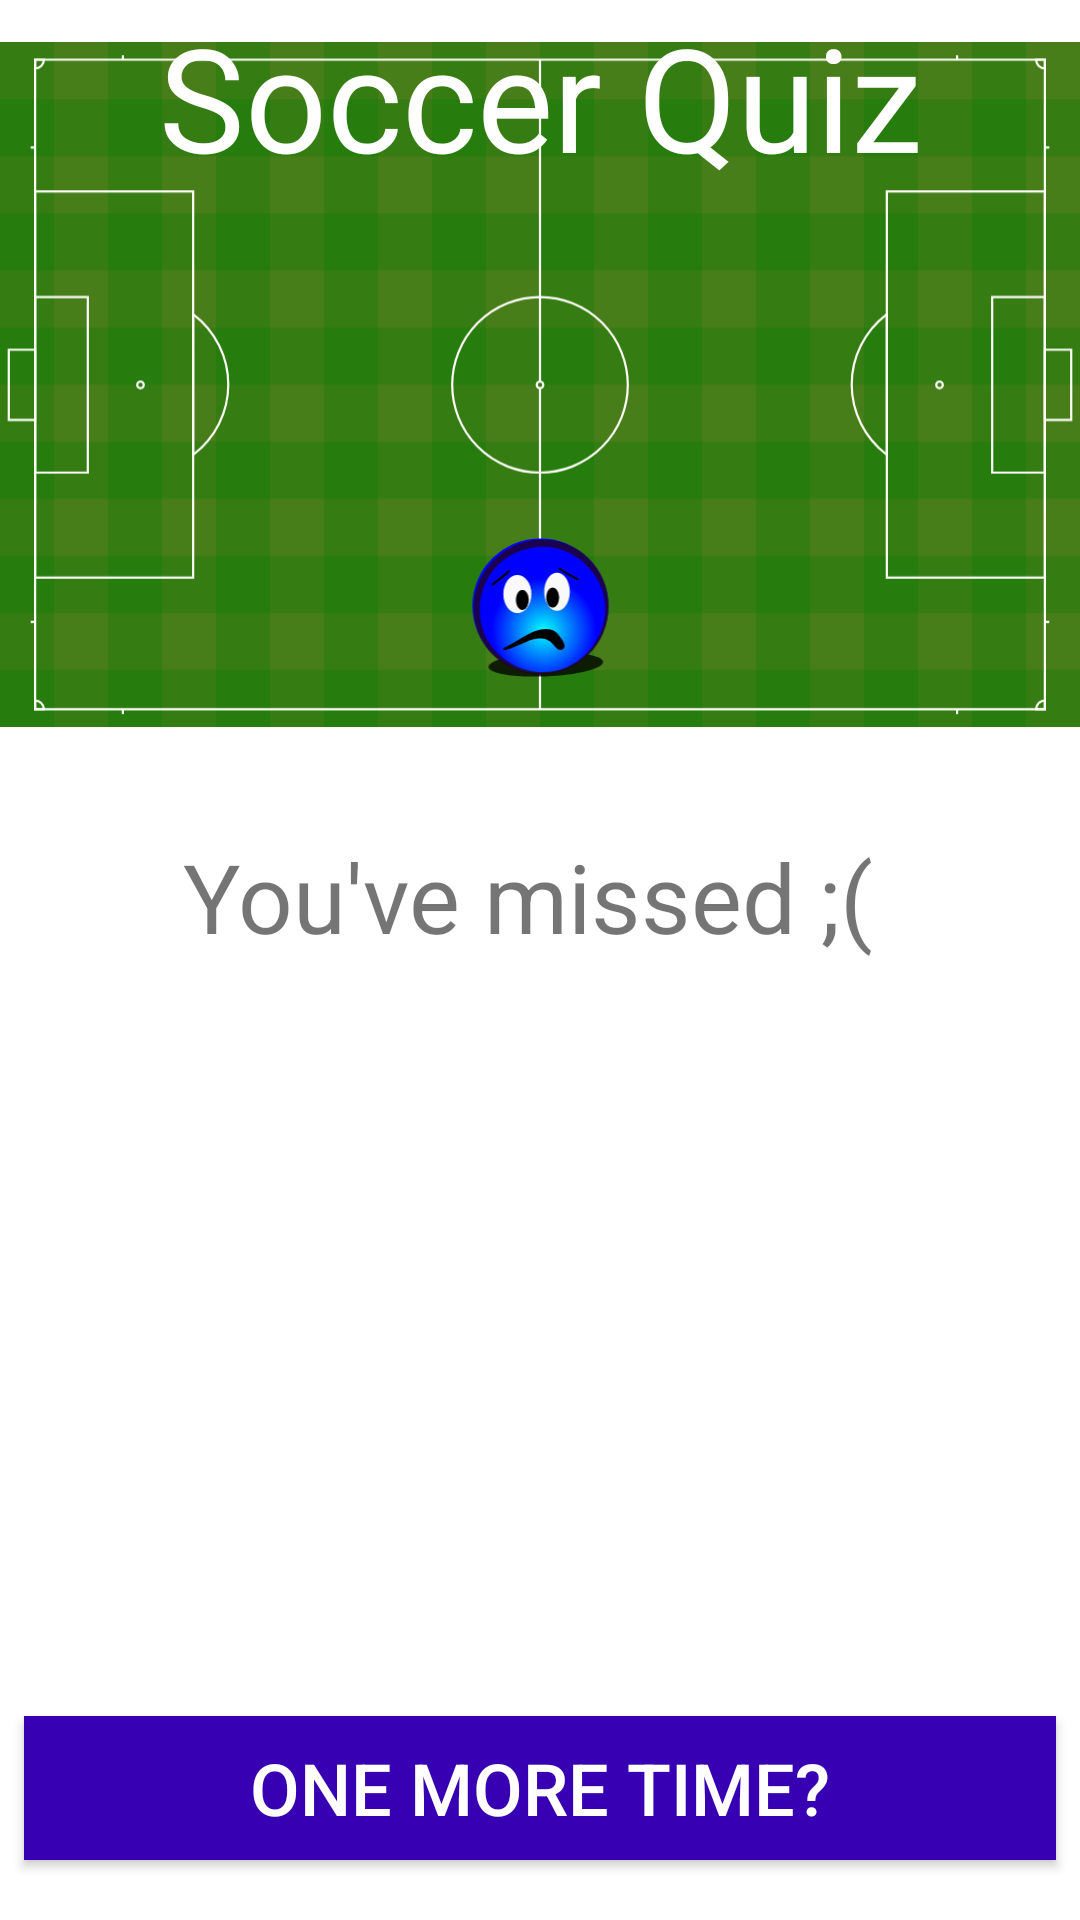

Where to tap for icons on this 1080×1920 app screen, as (x,y):
smiley: (540,608)
